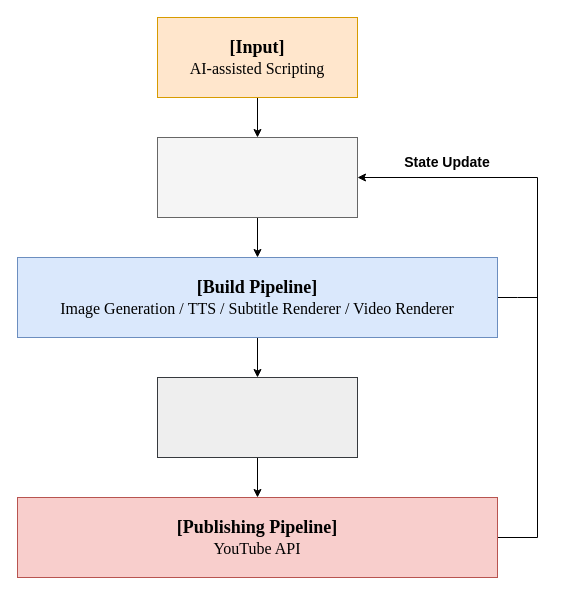
The diagram is 563 pixels wide and 595 high, and some of its shapes have lost their labels. The shapes that lost their labels are listed below. From the top down, each one's box as (x1, y1, x2, y2) in pixels, then its label:
(156, 136, 358, 218): [ Dashboard ] State / Build / Upload
(156, 376, 358, 458): [ Output ] Video
